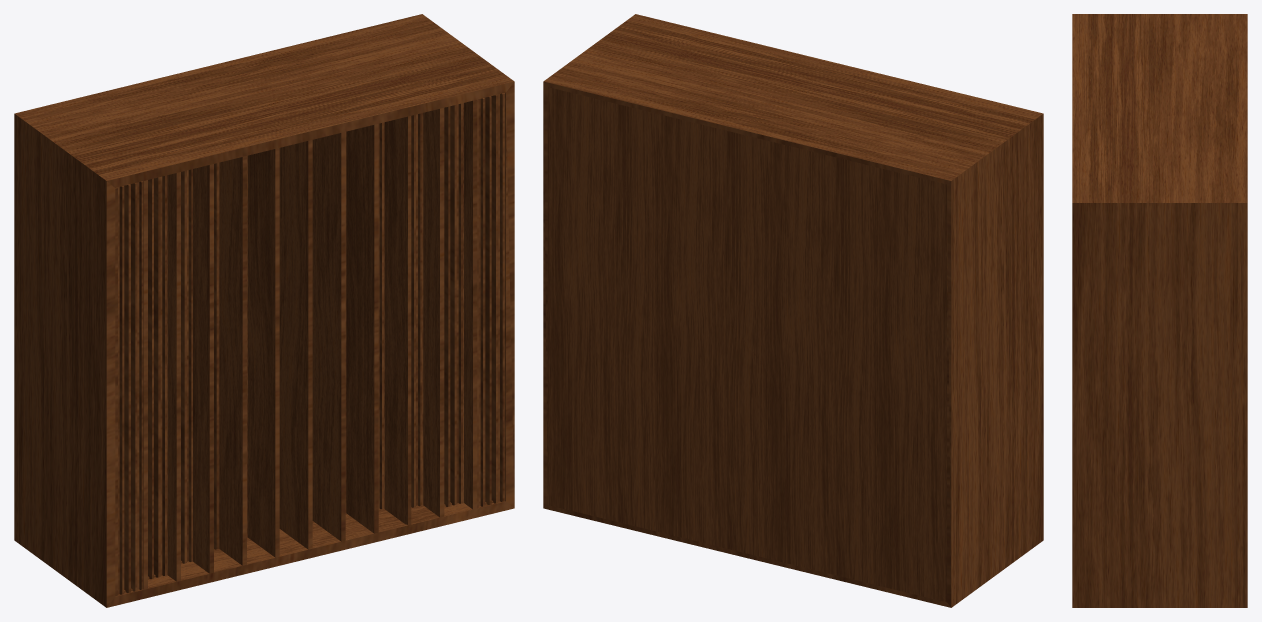
File: RQS350FX.glb
3 renders of one model, left to right at view 1: azimuth 30°, elevation 25°; view 2: azimuth 150°, elevation 25°; view 3: azimuth 270°, elevation 25°, orthographic. The views are drawn at different scales.
Visible parts, largest first — view 1: RQS350FX; view 2: RQS350FX; view 3: RQS350FX.
Boxes of the visible parts, bbox=[...] form: RQS350FX: bbox=[14, 14, 514, 607]; RQS350FX: bbox=[543, 14, 1043, 607]; RQS350FX: bbox=[1072, 14, 1247, 607].
Size of the model in its own units: 0.6001 by 0.6001 by 0.235.
Materials: 1 (1 with a texture image).
